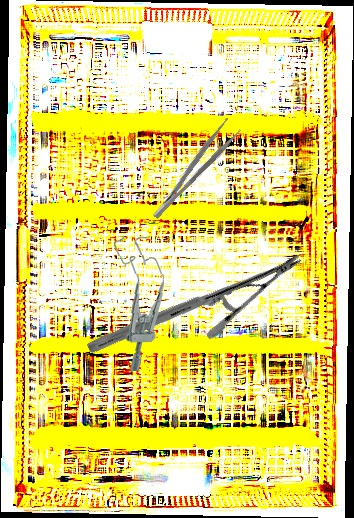Dressing Forceps: (143, 116, 243, 222)
Needle Holder: (84, 186, 305, 421)
Speculum: (113, 233, 169, 373)
